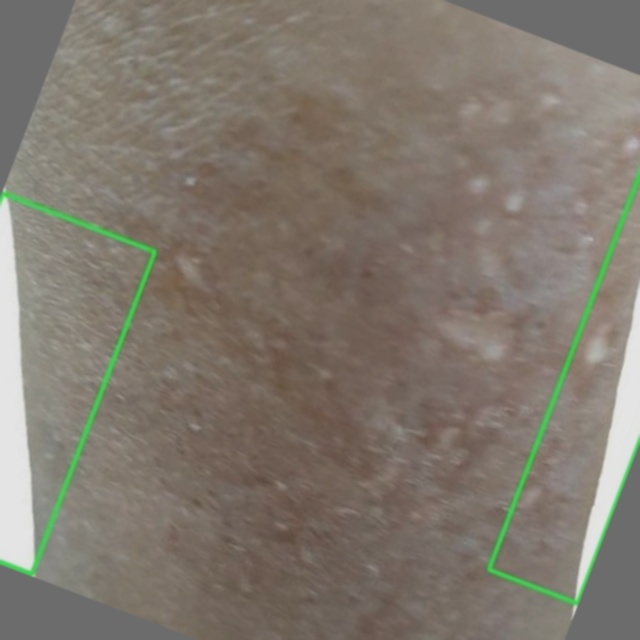Atopic Dermatitis: (0, 193, 156, 575)
